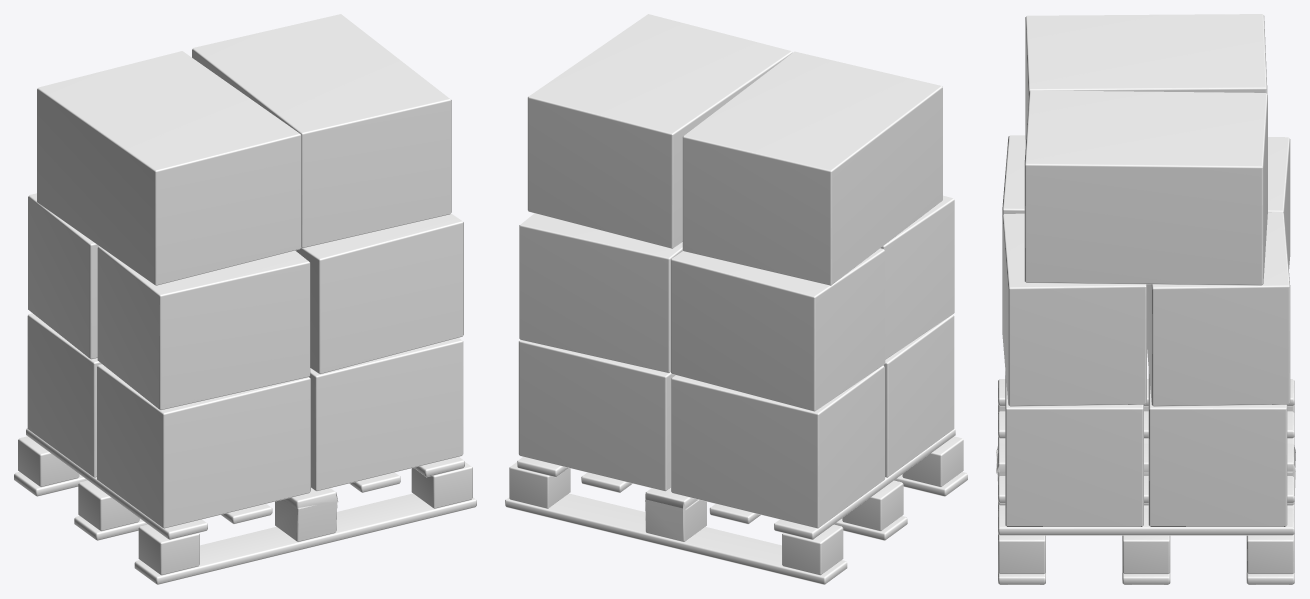
File: pallet_stack.glb
3 views of the same model, side by side, from view 1: azimuth 30°, elevation 25°; view 2: azimuth 150°, elevation 25°; view 3: azimuth 270°, elevation 25° (orthographic). The views are drawn at different scales.
Visible parts, largest first — view 1: PalletStack; view 2: PalletStack; view 3: PalletStack.
Part boxes in pixels (<box>): PalletStack: <box>14,14,476,584</box>; PalletStack: <box>505,14,967,584</box>; PalletStack: <box>996,14,1295,584</box>.
Bounding box in the file's own units: 0.8 × 0.958 × 0.6268.
1 material, 1 textured.
